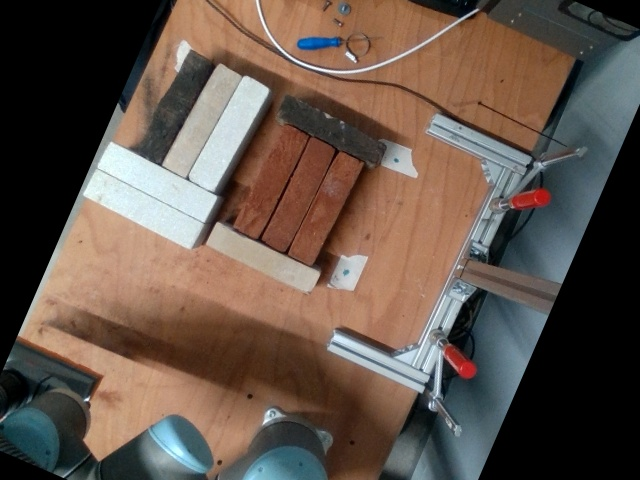brick-side: (186, 74, 269, 193), (96, 142, 216, 222), (82, 169, 203, 248), (161, 61, 241, 179), (137, 49, 215, 162), (286, 150, 363, 264), (272, 93, 388, 168), (203, 220, 319, 294), (234, 123, 308, 238), (259, 138, 334, 251)
